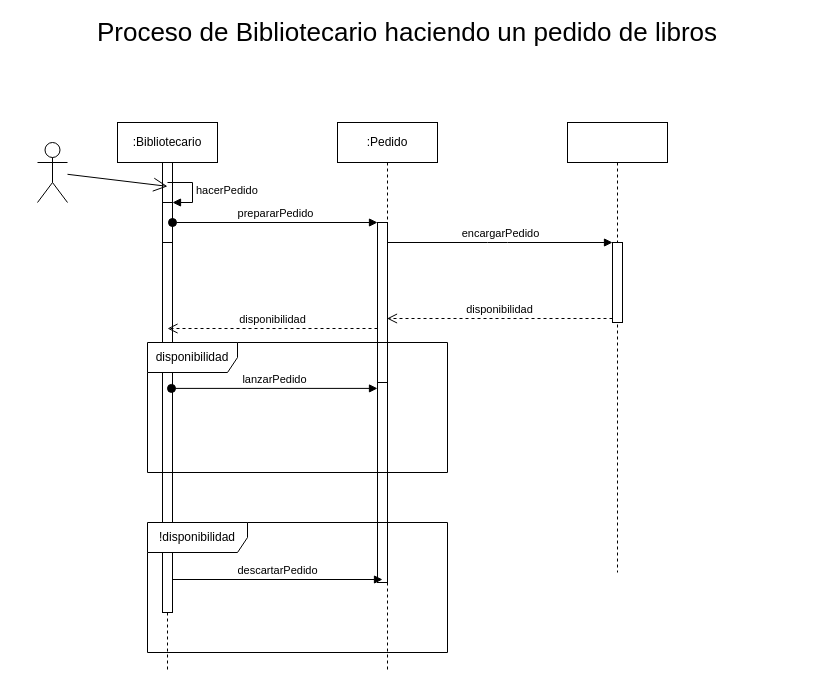
This 814x690 diagram has some shape labels left out. The box of each missing label's shape, as (x1, y1, x2, y2) in pixels:
:Mensajeria: (566, 122, 668, 572)
Usuario: (36, 142, 68, 202)
